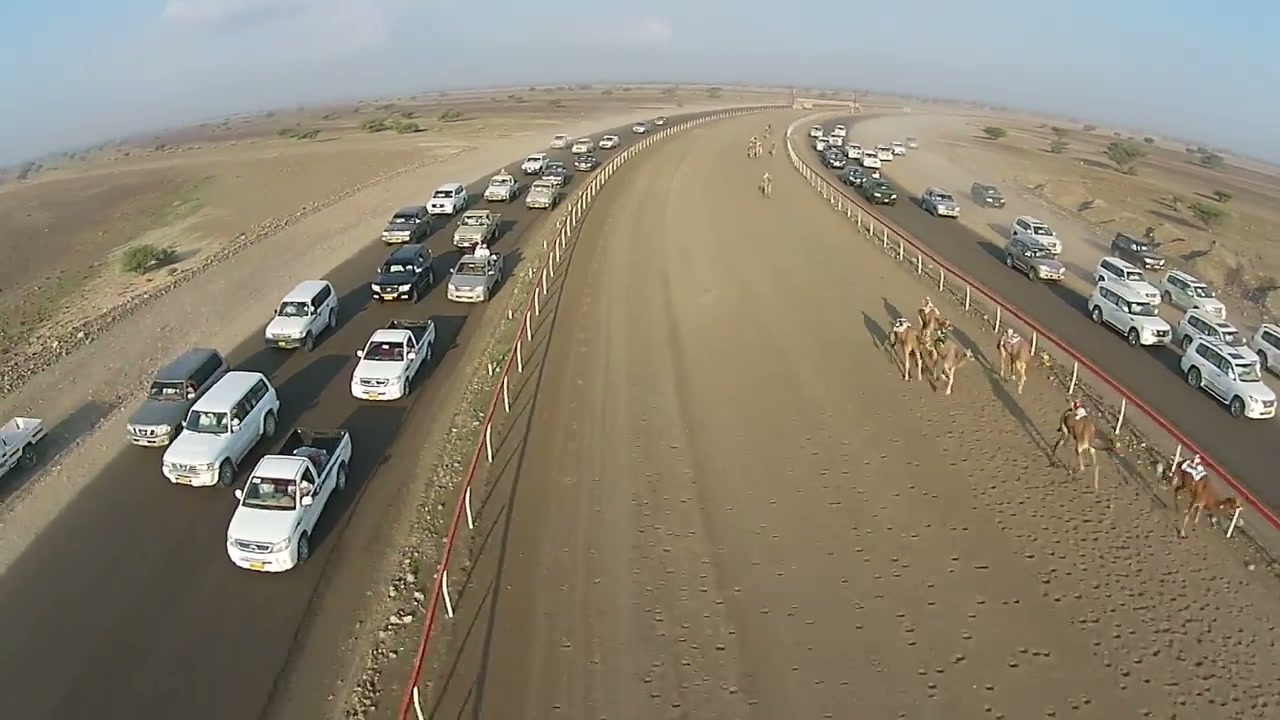animal_foot_print: (931, 382, 1279, 719), (899, 540, 1135, 719)
